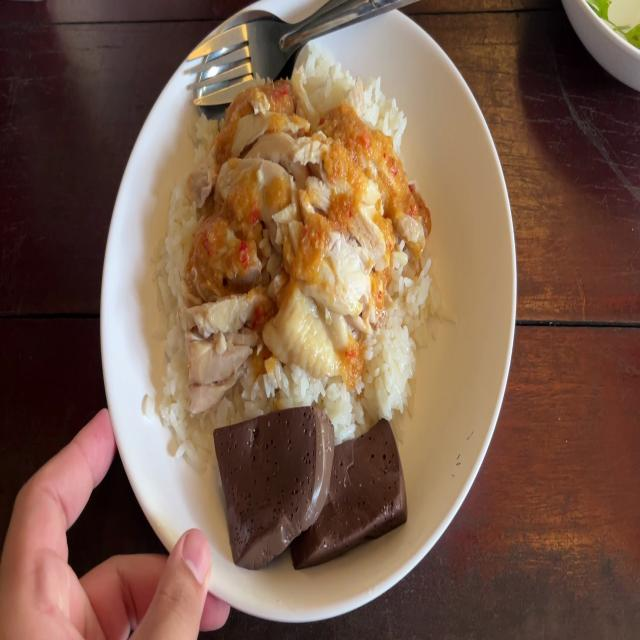chicken_rice: (204, 90, 387, 358)
noodle: (212, 407, 335, 555), (290, 419, 413, 554)
